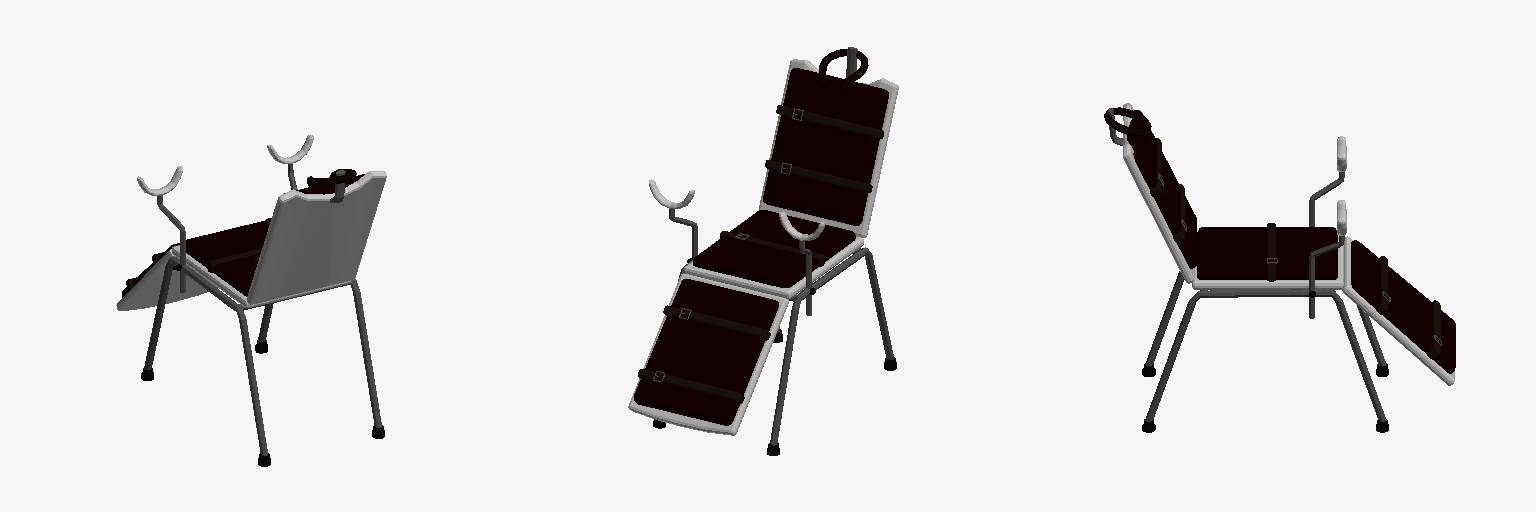
Rendered from Chair.obj.
3 renders of one model, left to right at view 1: azimuth 30°, elevation 25°; view 2: azimuth 150°, elevation 25°; view 3: azimuth 270°, elevation 25°, orthographic.
Parts seen in each view (by area): view 1: Chair; view 2: Chair; view 3: Chair.
Boxes of the visible parts, box(x1,y1,x2,y2) form: Chair: box(116, 134, 386, 466); Chair: box(628, 47, 898, 455); Chair: box(1104, 103, 1455, 432).
Size of the model in its own units: 12.33 by 19.63 by 21.42.